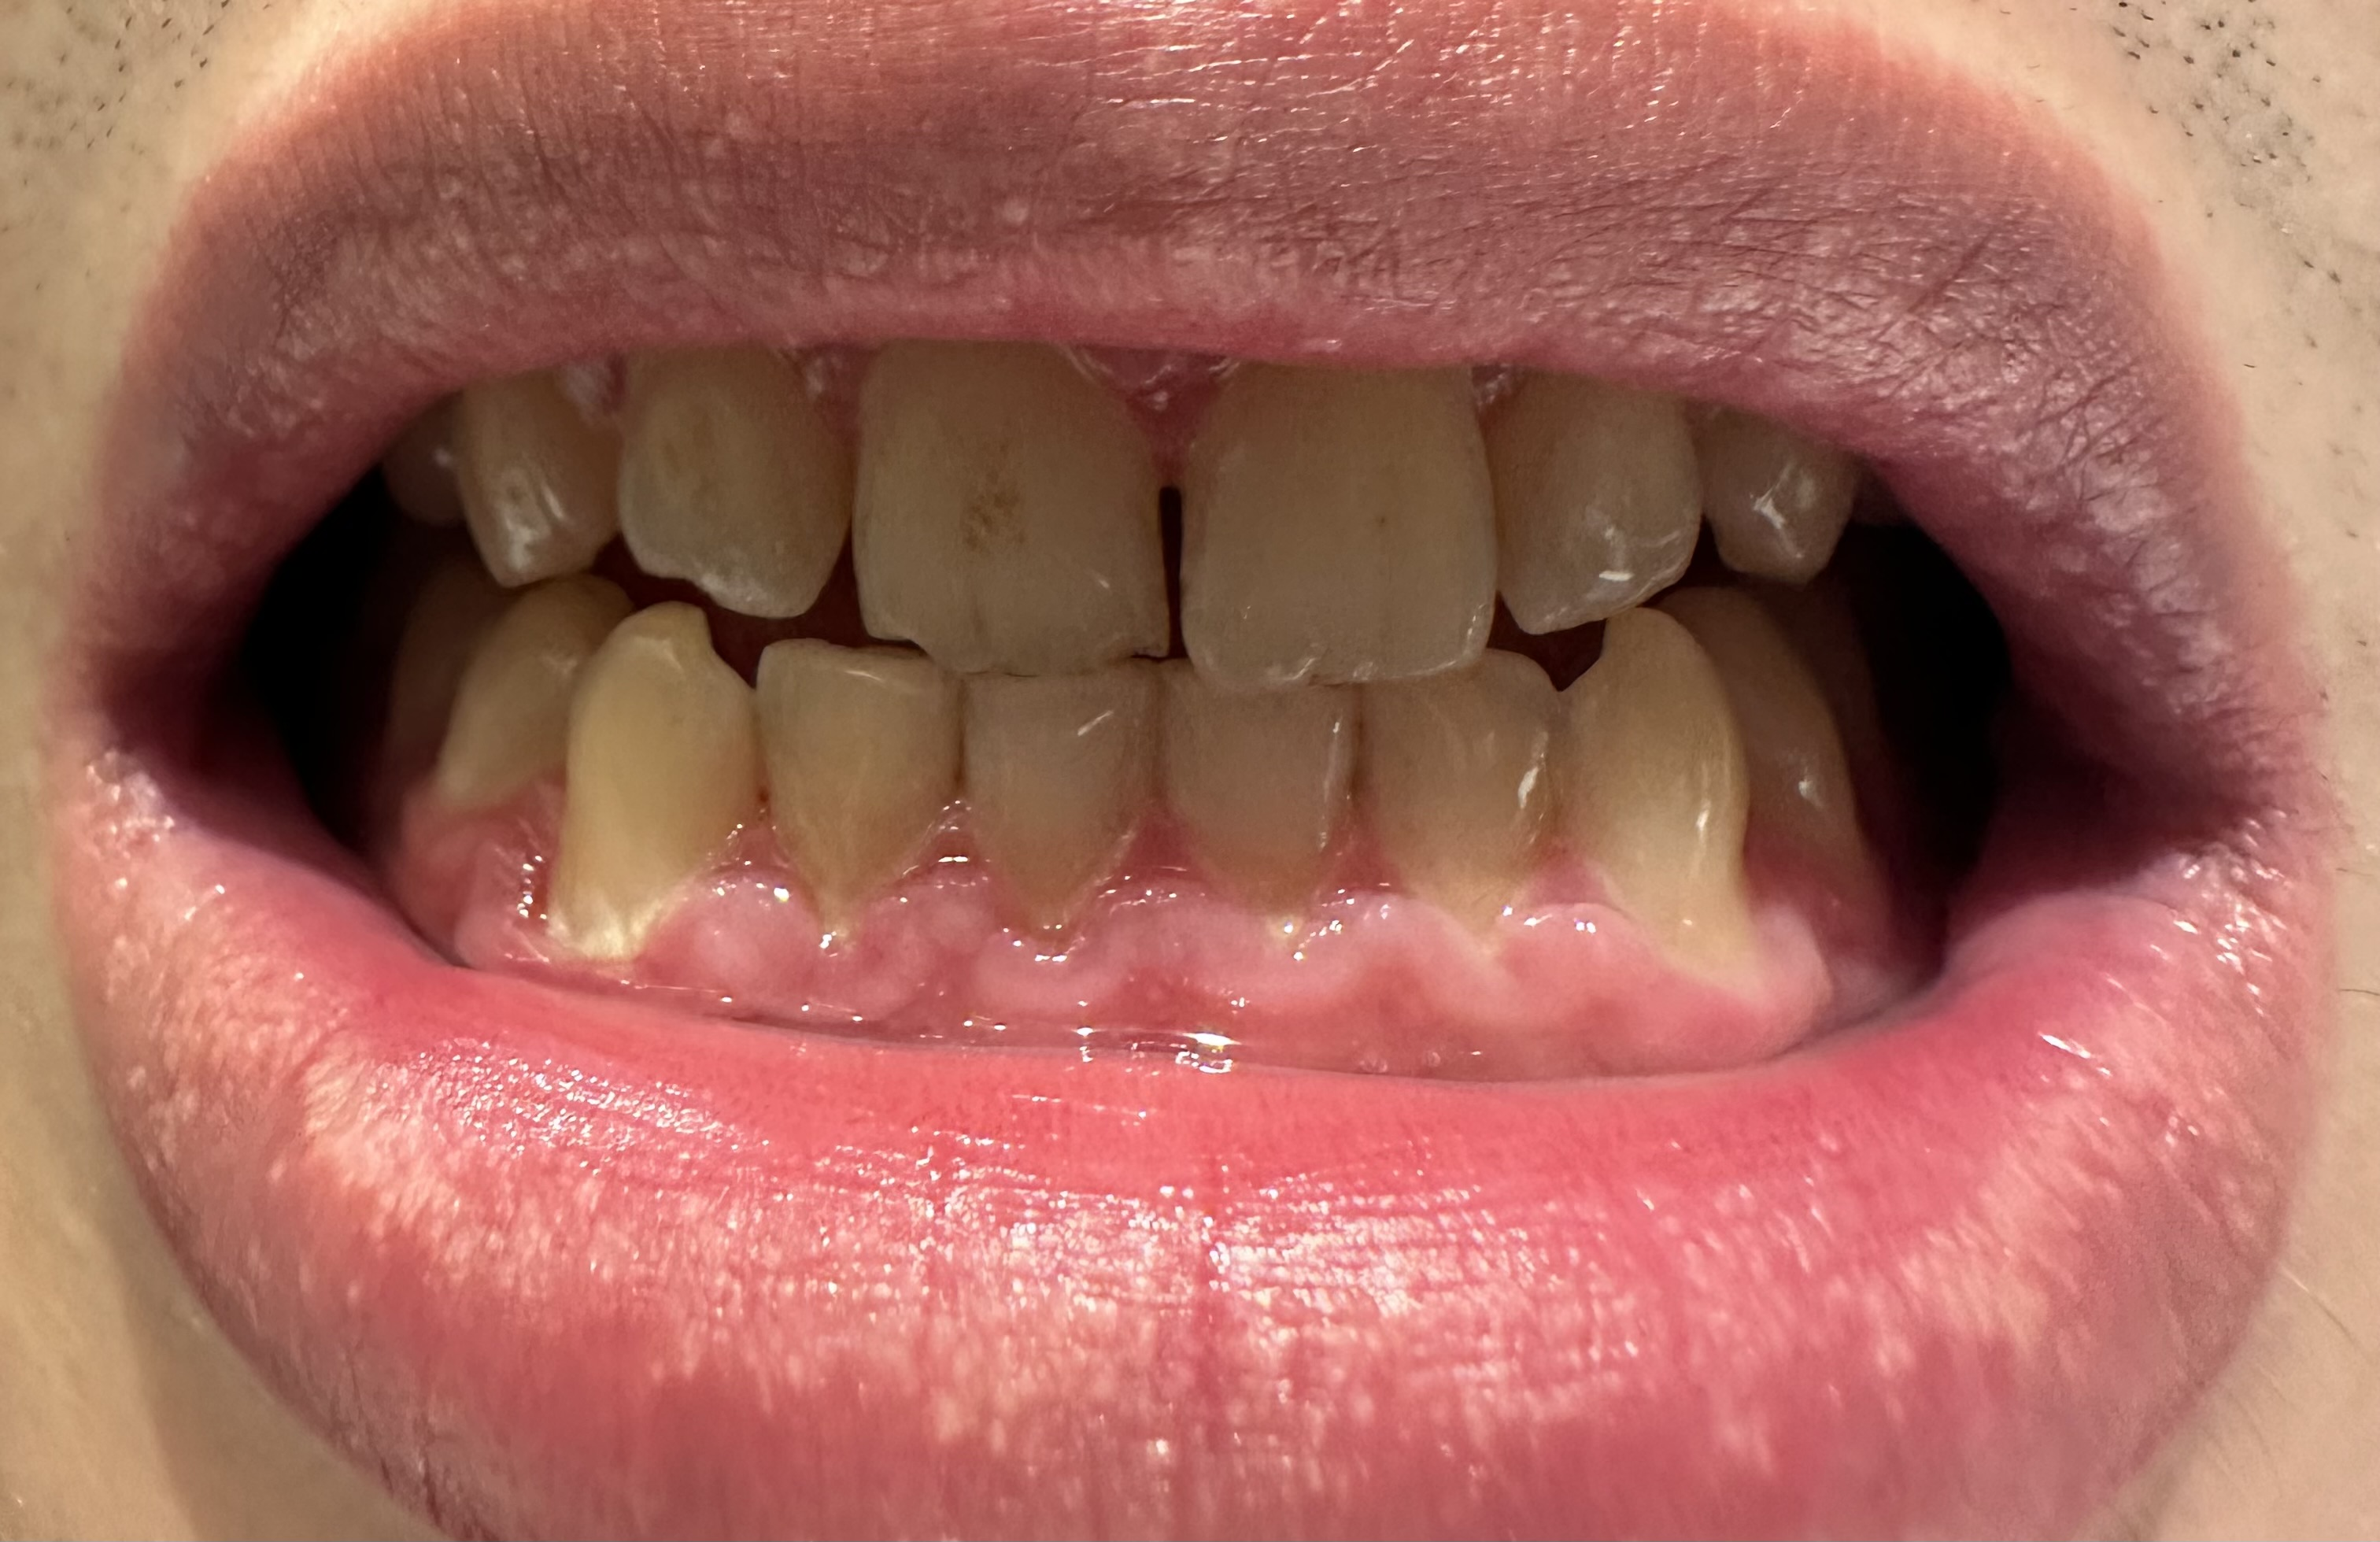teeth: (1193, 376, 1495, 673), (857, 359, 1161, 652), (1566, 617, 1754, 959), (559, 607, 722, 949), (626, 363, 814, 607), (1521, 378, 1690, 637), (1388, 657, 1535, 928), (779, 670, 938, 905), (1723, 576, 1858, 829), (971, 678, 1143, 876), (1199, 690, 1348, 902), (461, 593, 598, 798), (468, 394, 600, 581), (1729, 421, 1856, 583)
